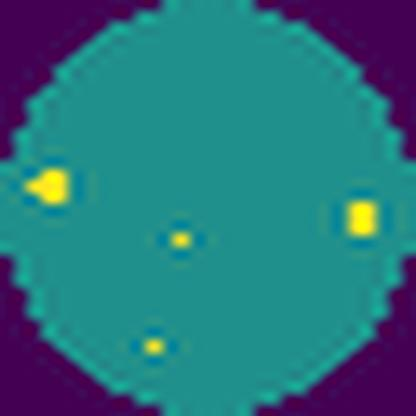Loc: (26, 165, 68, 206), (346, 203, 375, 239)
